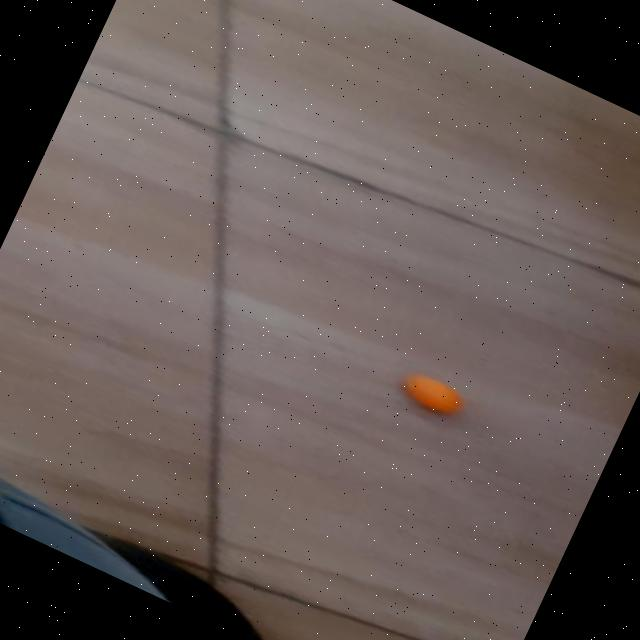ping-pong-ball: (399, 363, 470, 420)
